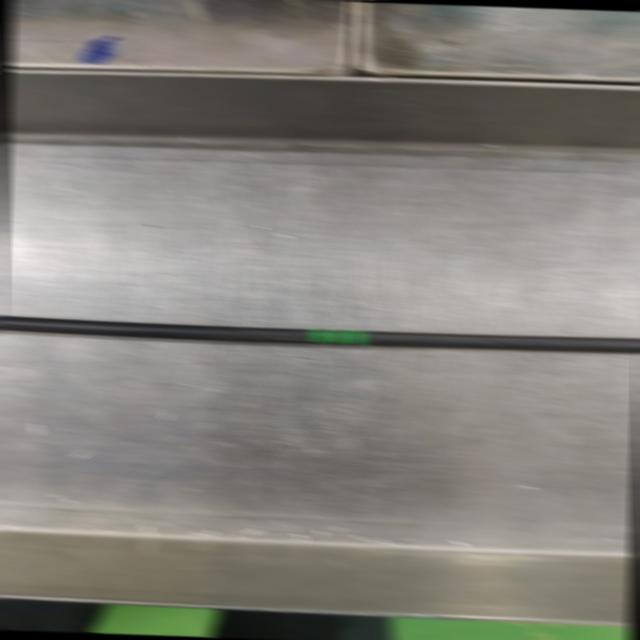green: (309, 328, 365, 344)
